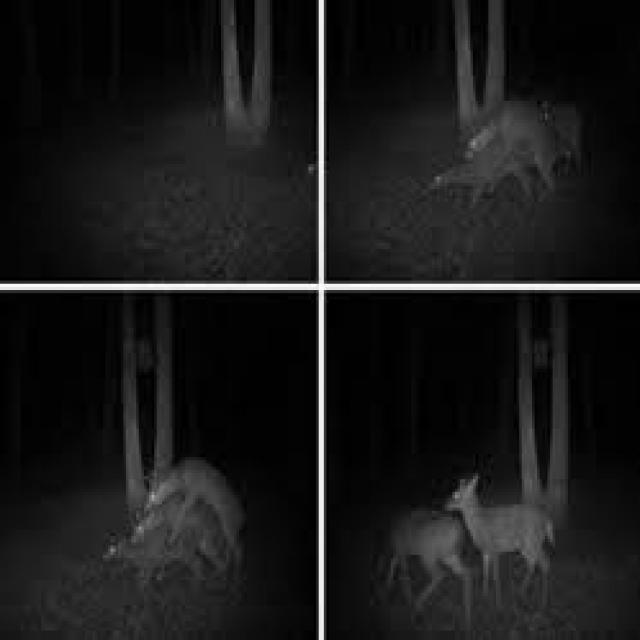elk: (343, 442, 572, 635), (418, 87, 610, 251), (103, 422, 246, 630)
